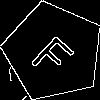F: (28, 27, 82, 81)
